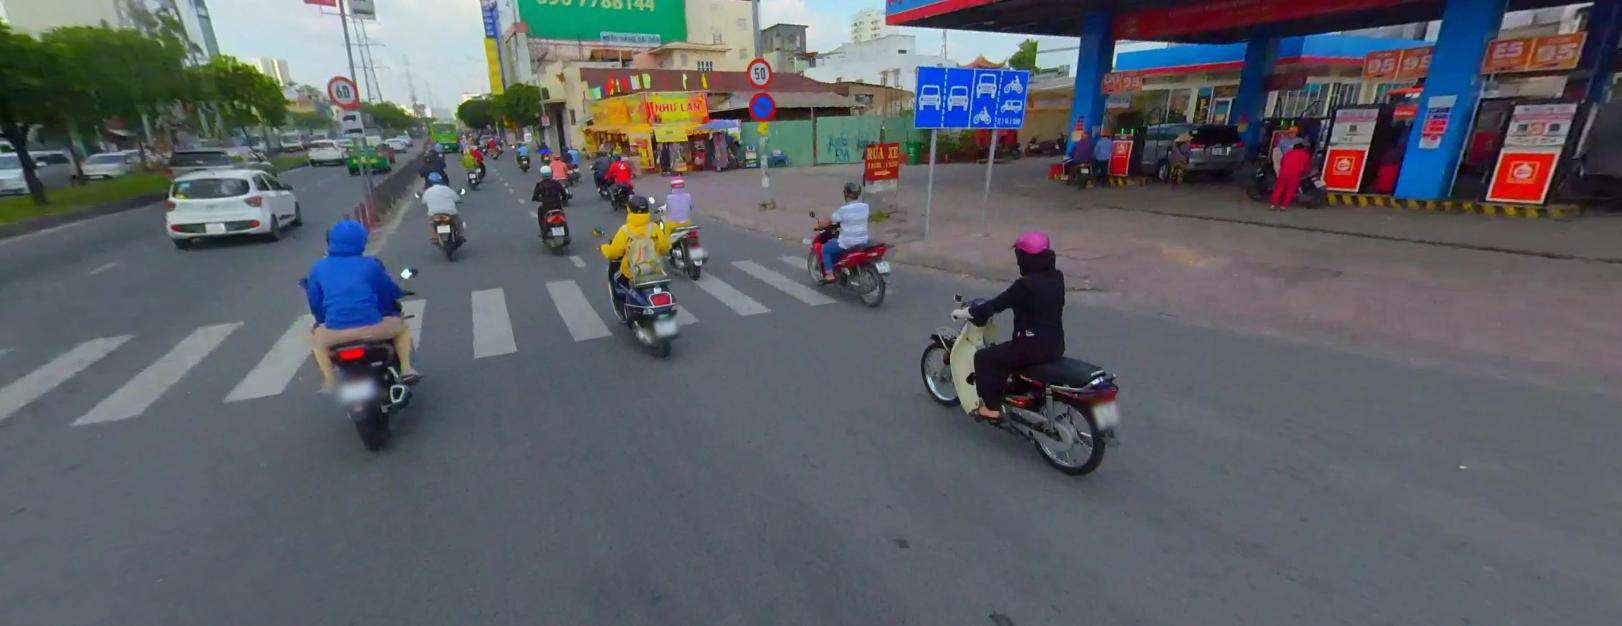Cam dung va do: (748, 91, 776, 120)
Gioi han toc do: (326, 74, 360, 107), (746, 56, 772, 87)
